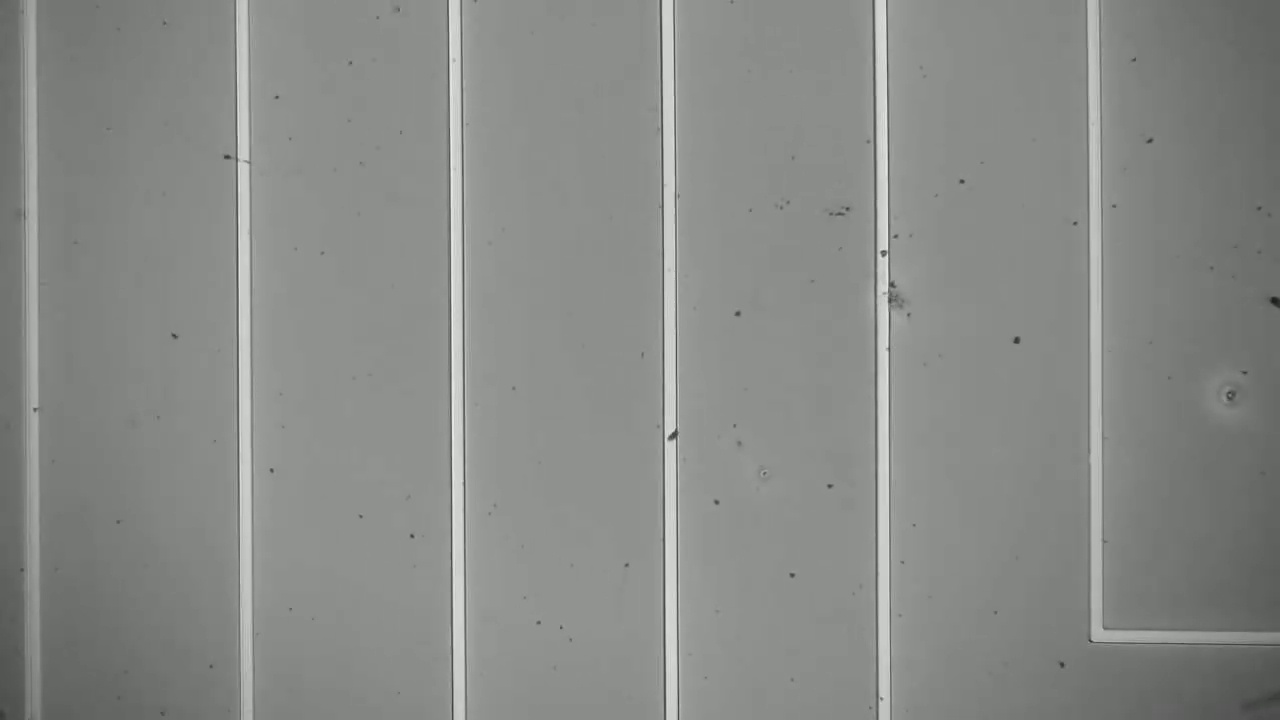stains_enbedded: (657, 426, 684, 449)
